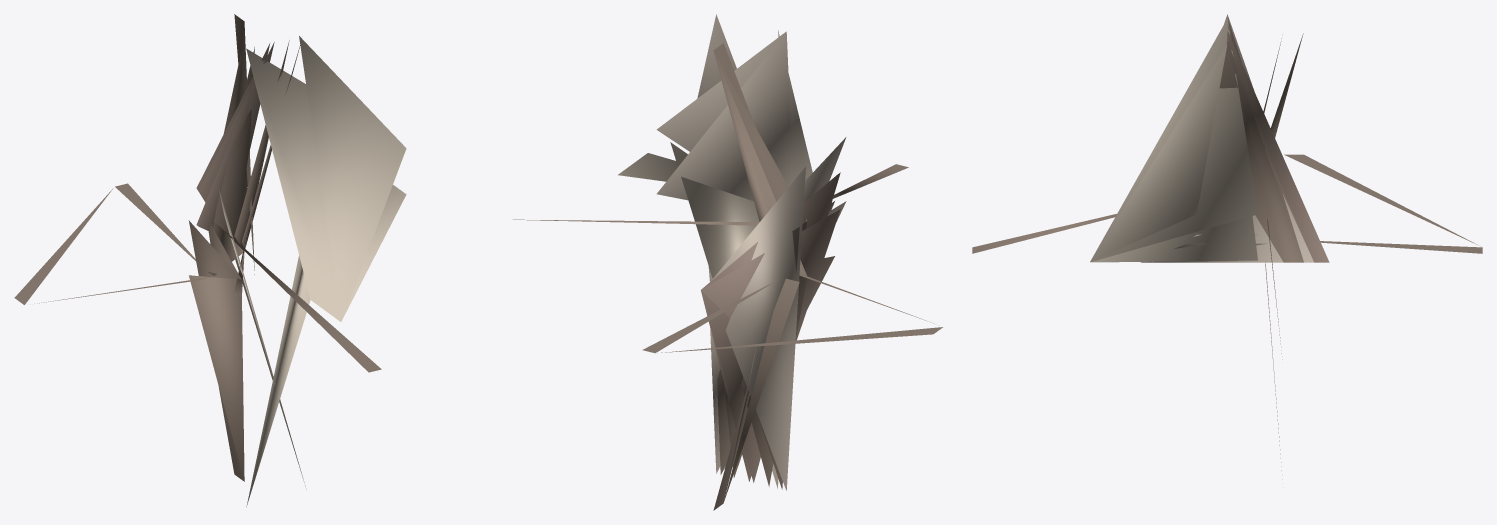
File: npc_cow_idle.glb
3 views of the same model, side by side, from view 1: azimuth 30°, elevation 25°; view 2: azimuth 150°, elevation 25°; view 3: azimuth 270°, elevation 25° (orthographic).
Visible parts, largest first — view 1: npc_cow_idle; view 2: npc_cow_idle; view 3: npc_cow_idle.
Boxes of the visible parts, bbox=[...] form: npc_cow_idle: bbox=[14, 14, 406, 507]; npc_cow_idle: bbox=[513, 14, 942, 510]; npc_cow_idle: bbox=[972, 14, 1482, 479].
Bounding box in the file's own units: 2 × 2 × 2.
